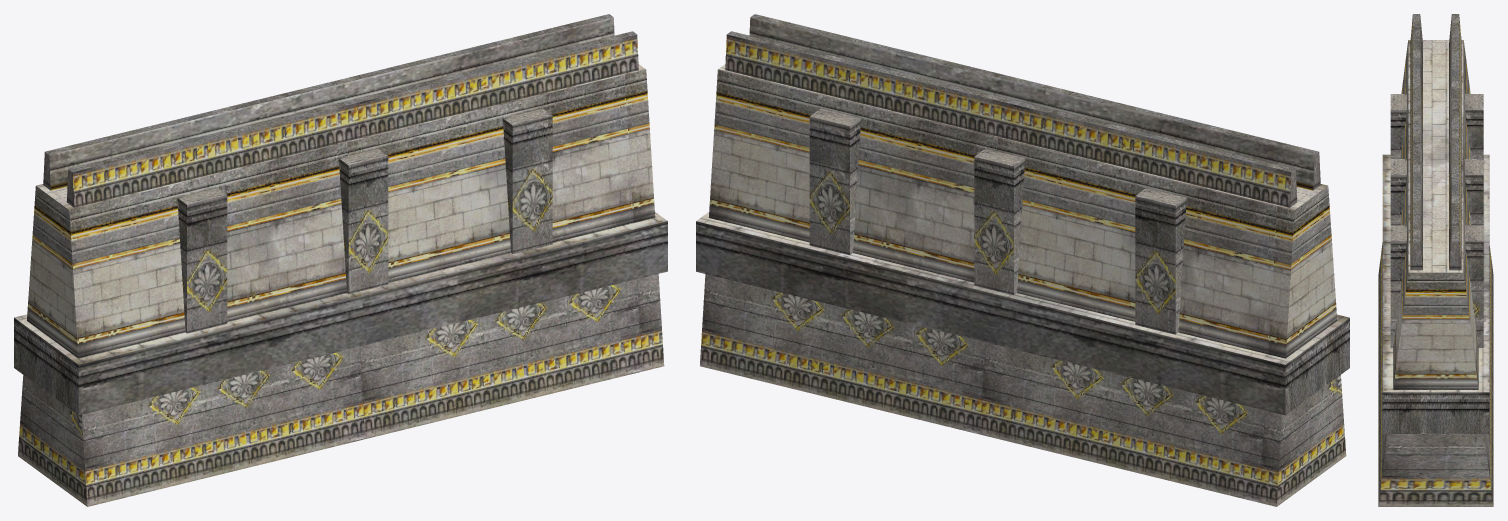
Rendered from idle.glb.
The picture shows the model from 3 angles, left to right: view 1: azimuth 30°, elevation 25°; view 2: azimuth 150°, elevation 25°; view 3: azimuth 270°, elevation 25°; orthographic projection. The views are drawn at different scales.
Visible parts, largest first — view 1: MeshRoot; view 2: MeshRoot; view 3: MeshRoot.
Part boxes in pixels (bbox=[...]): MeshRoot: bbox=[14, 14, 667, 506]; MeshRoot: bbox=[696, 14, 1349, 506]; MeshRoot: bbox=[1378, 14, 1493, 506].
Bounding box in the file's own units: 17.88 × 9.22 × 3.66.
Materials: 2 (2 with a texture image).
